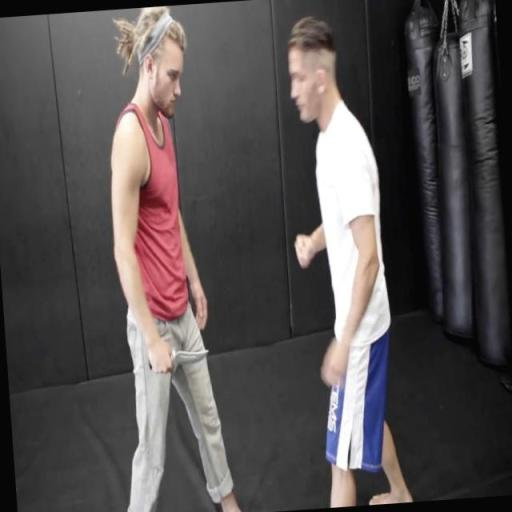knife: (142, 340, 214, 377)
